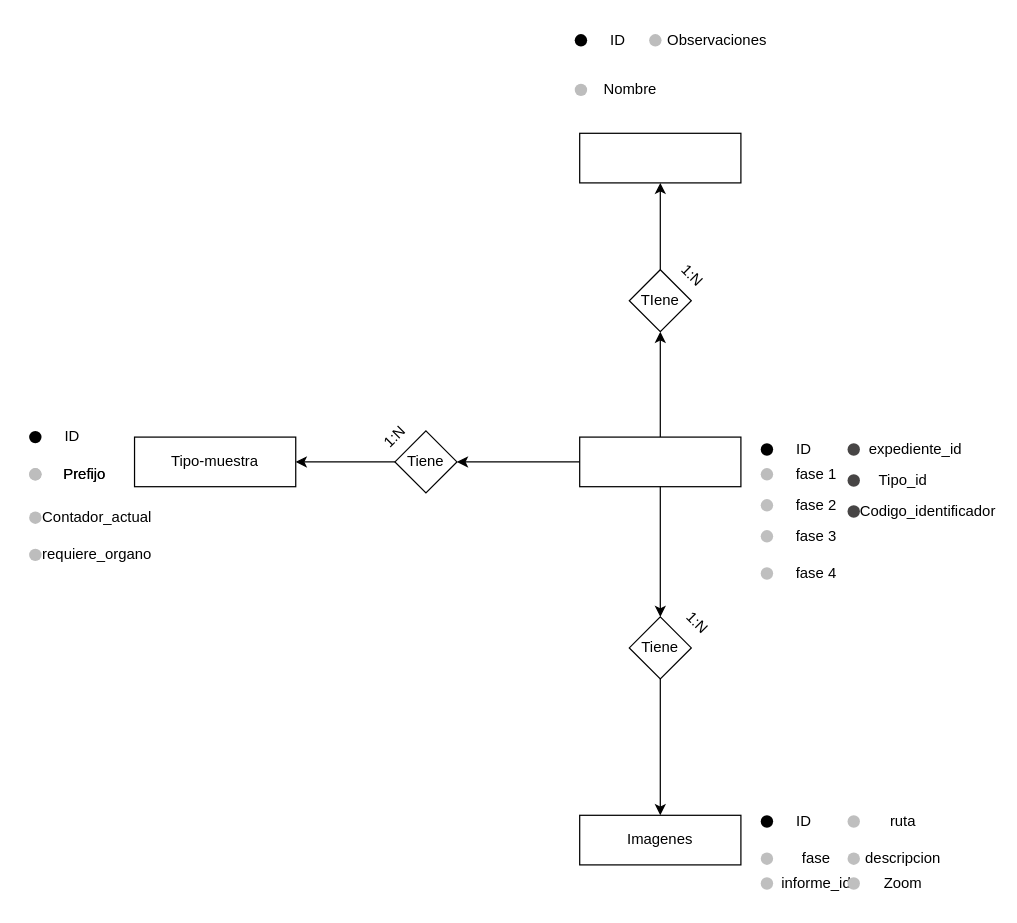
Image size: 1017x923. Some labels were removed from this diagram. The centre of each missing label's shape, as x and y in pixels:
Expediente: the point at 659,157
informes: the point at 659,461
